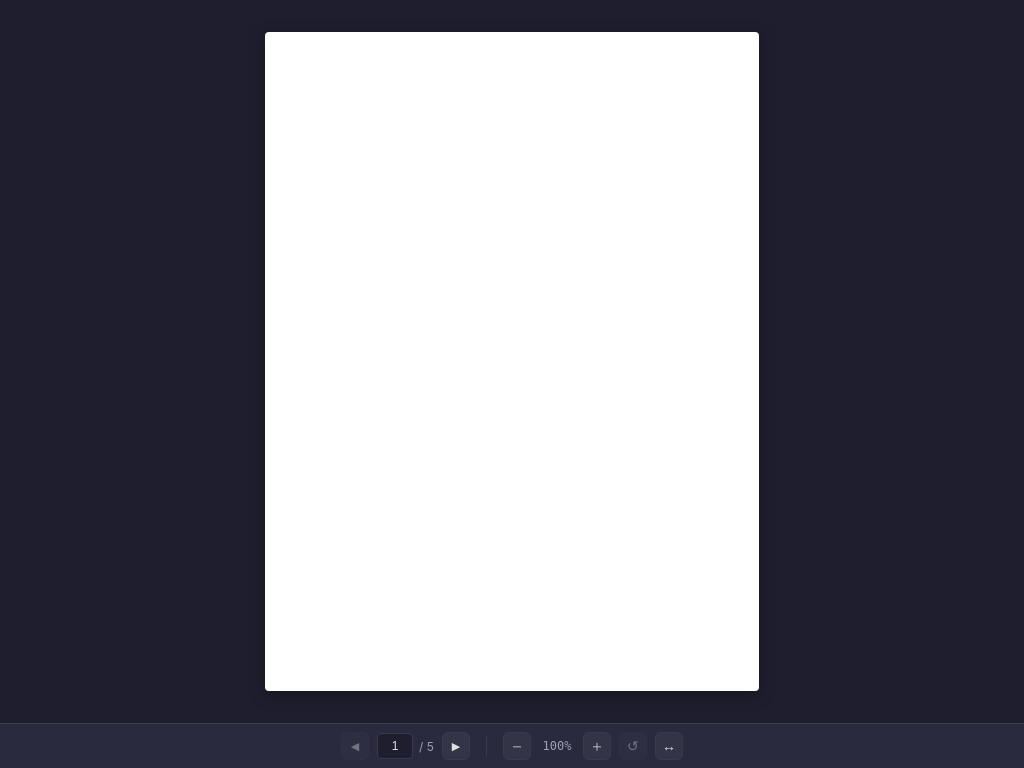
RenderPdf Component › adjusts zoom level when clicking zoom buttons
 Zoom In
What coordinates should you click on to do the following:
click the button titled "Zoom In"
I would click on:
 (597, 746)
Its box is [583,732,611,760].
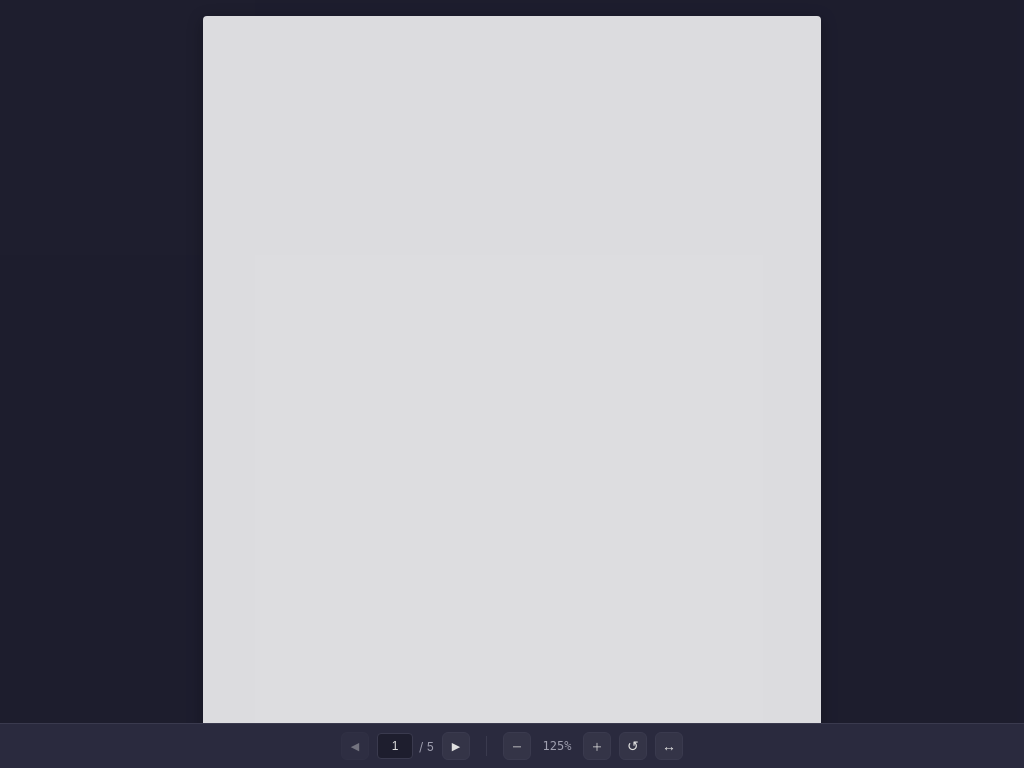
expect the text "125%" is shown: met, box [542,739,571,753]
Zoom Out twice
What coordinates should you click on to do the following:
click the button titled "Zoom Out"
I would click on:
 (517, 746)
Its box is [503,732,531,760].
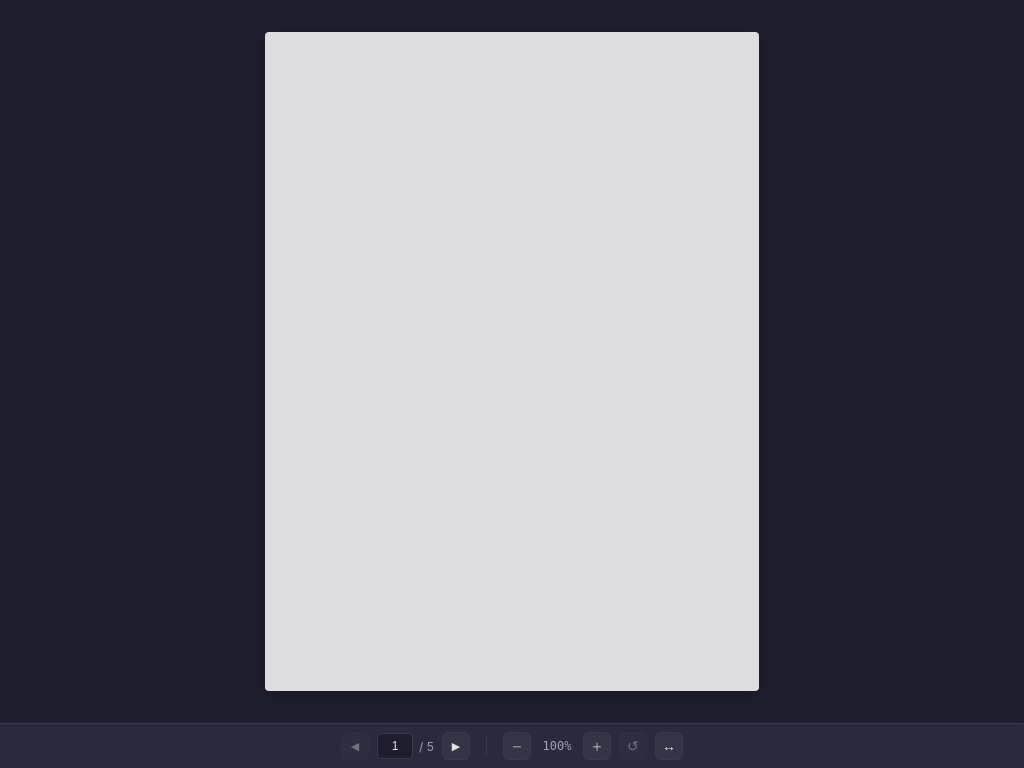
What coordinates should you click on to do the following:
click the button titled "Zoom Out"
I would click on:
 (517, 746)
Its box is [503,732,531,760].
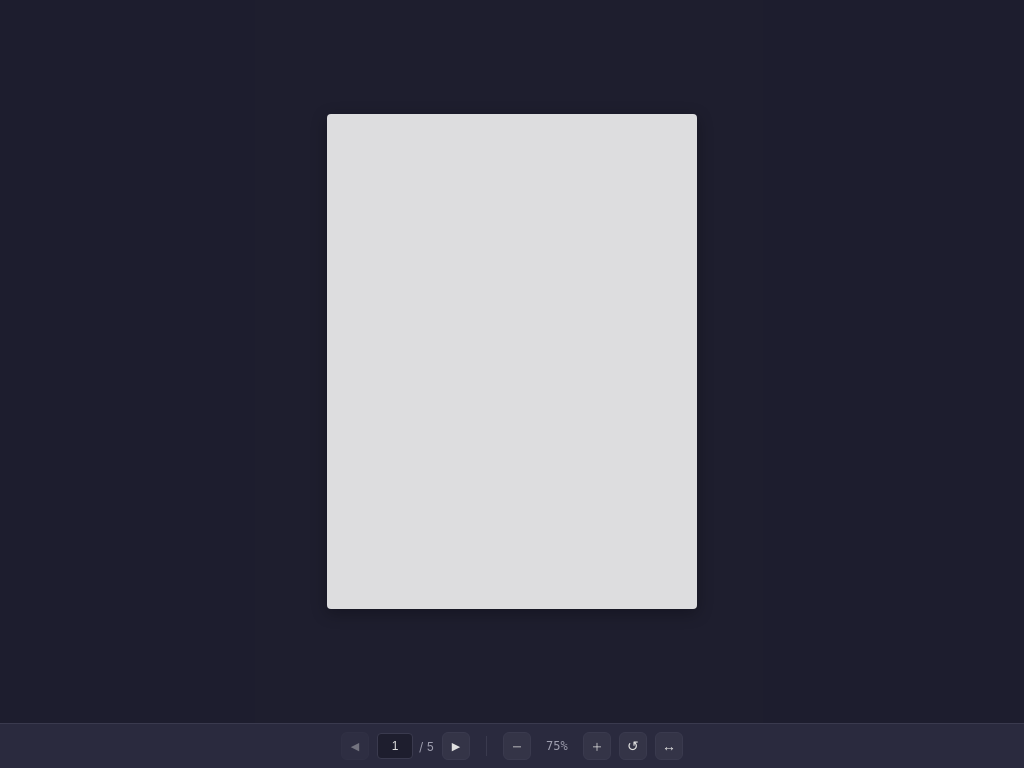
expect the text "75%" is shown: met, box [546,739,568,753]
expect the button titled "Reset Zoom" is enabled: met
What coordinates should you click on to do the following:
click the button titled "Reset Zoom"
I would click on:
 (633, 746)
Its box is [619,732,647,760].
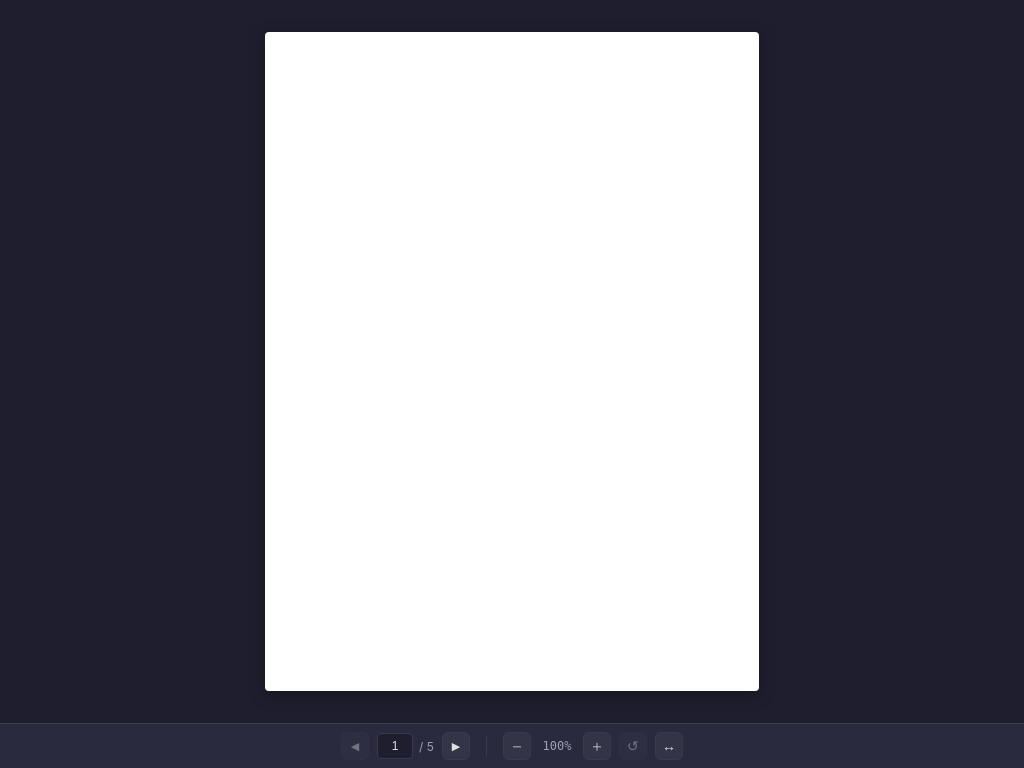
expect the text "100%" is shown: met, box [542,739,571,753]
expect the button titled "Reset Zoom" is disabled: met, box [619,732,647,760]
